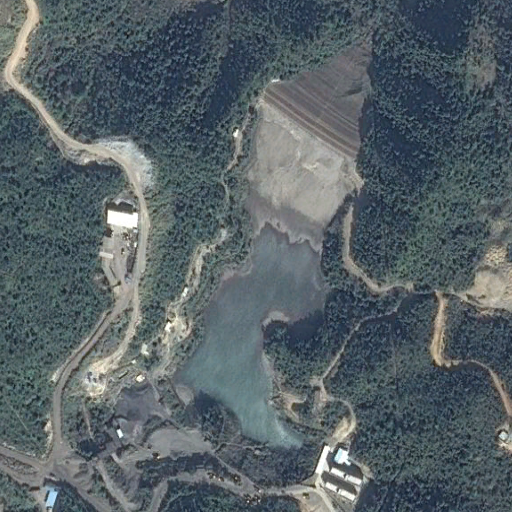tp: (155, 29, 376, 454)
